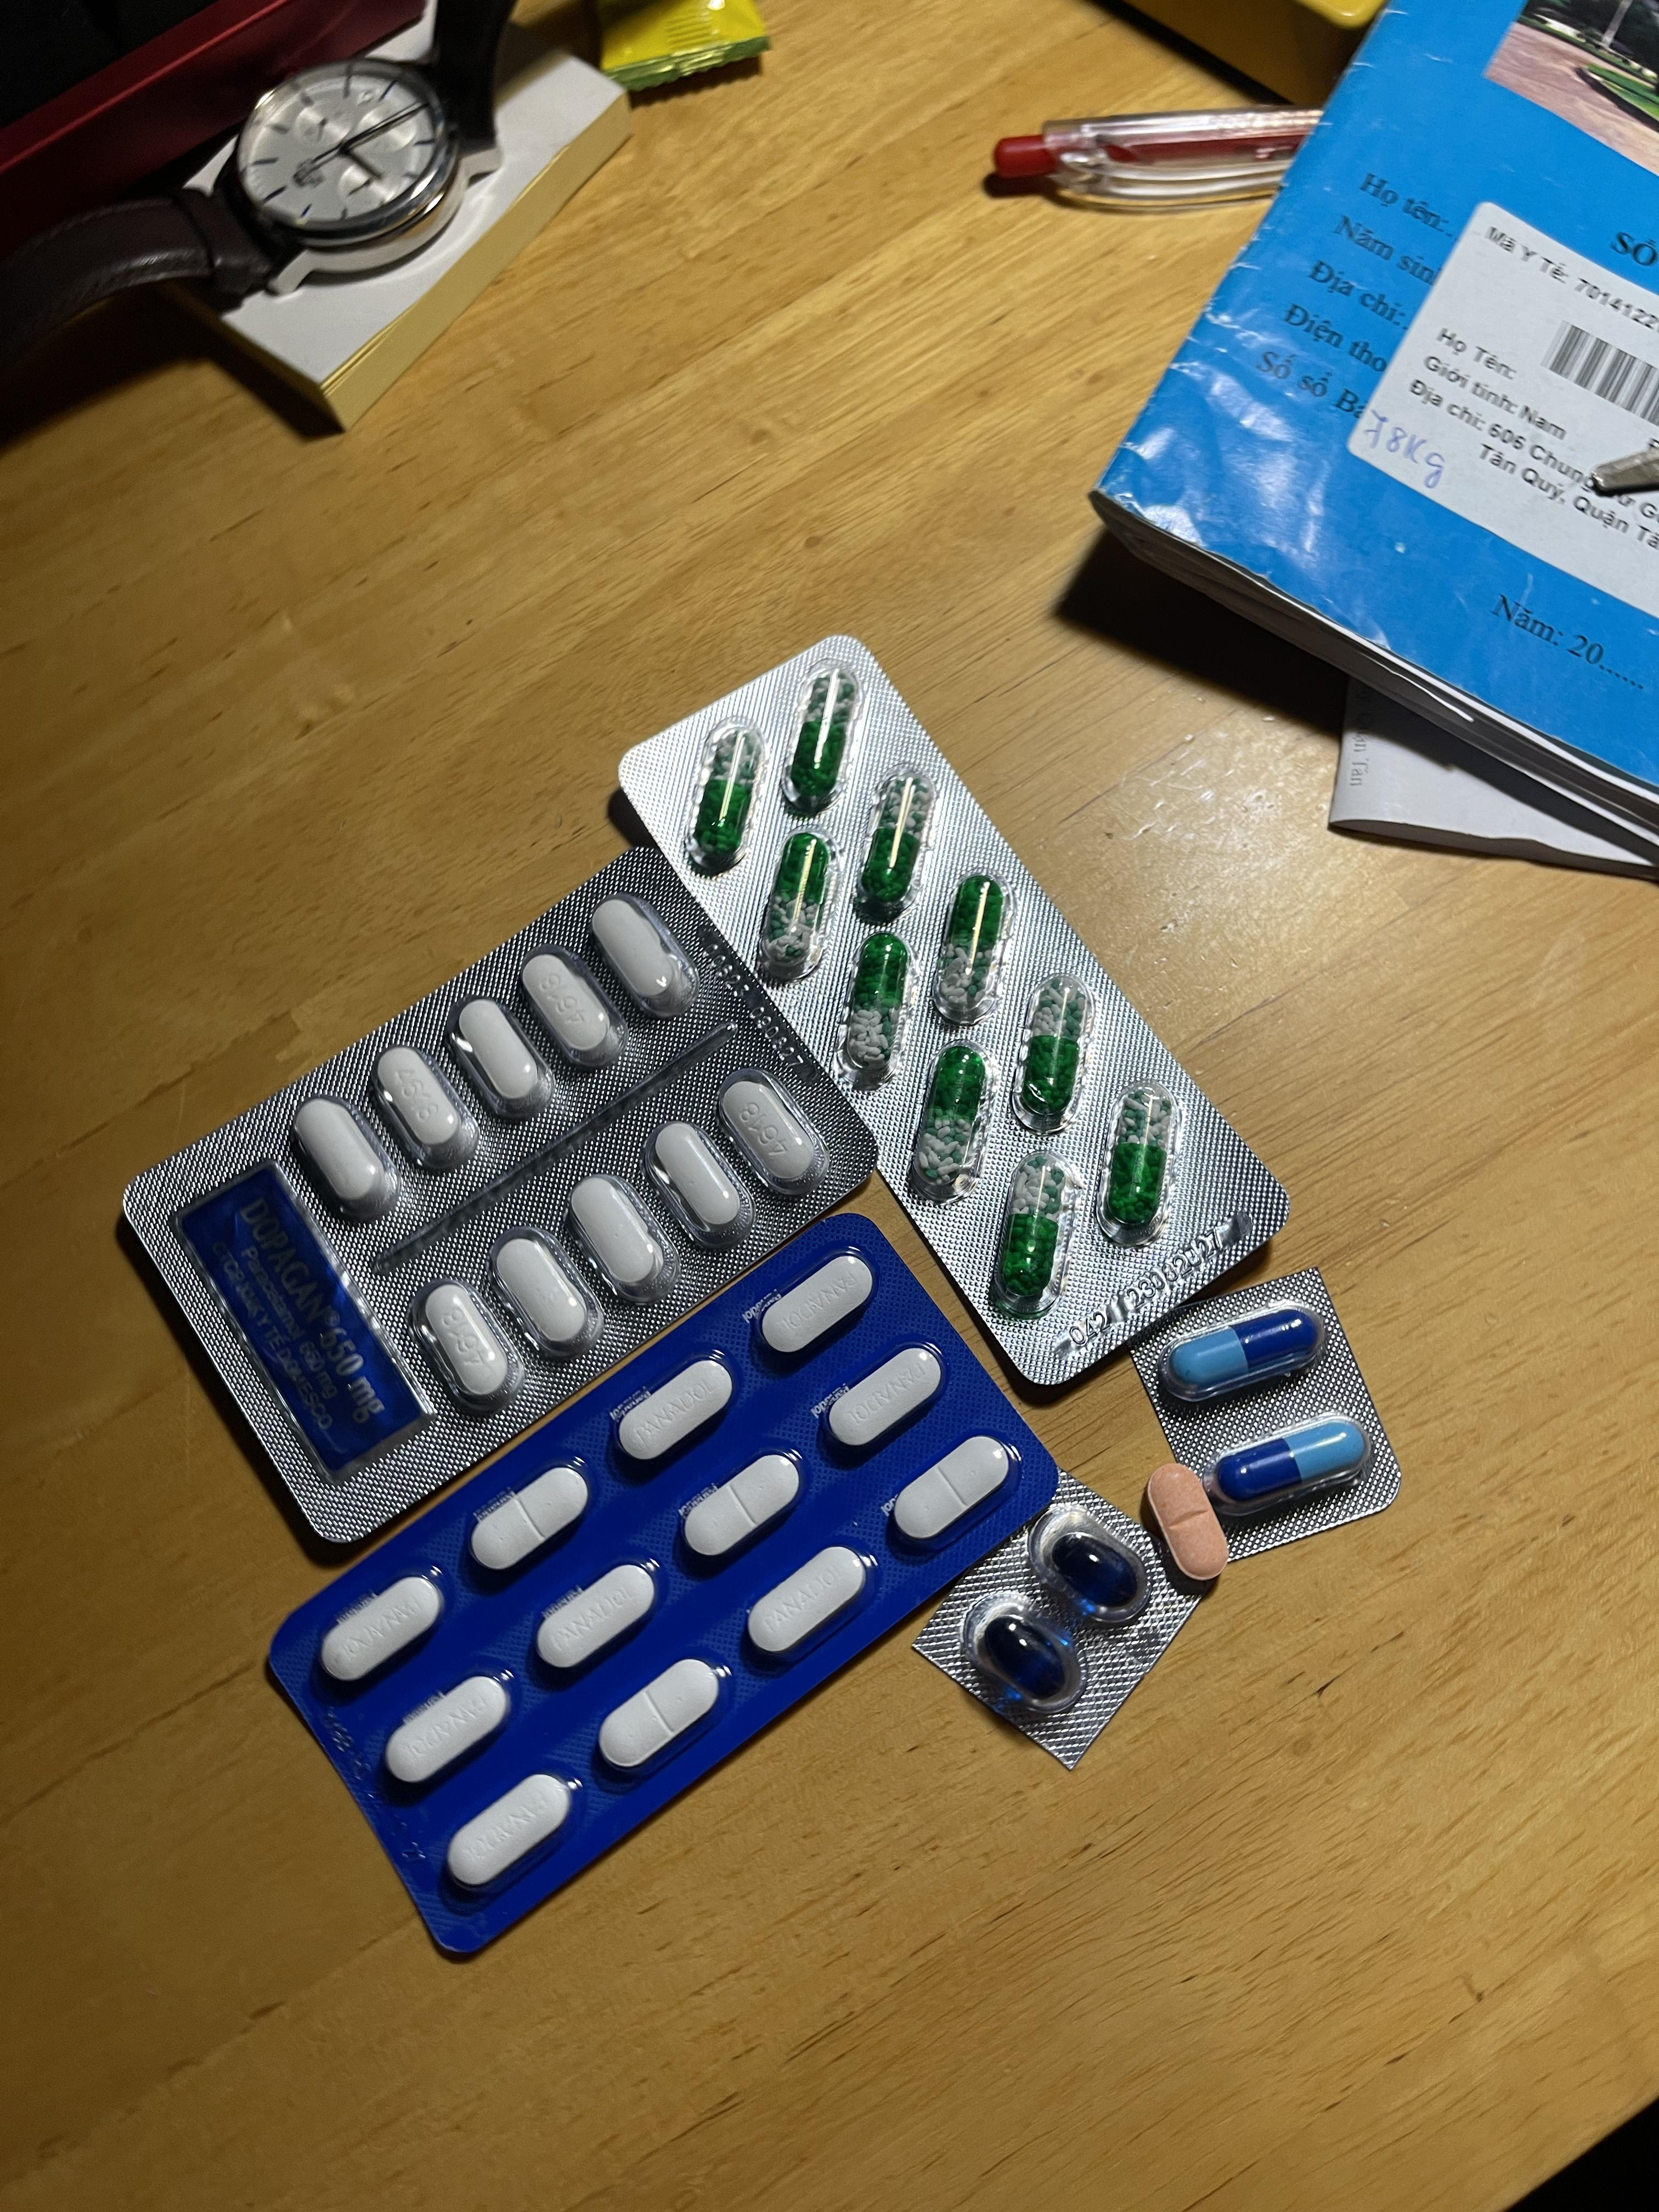Lincomyxin_500mg: (981, 1615, 1068, 1698), (1053, 1533, 1138, 1606)
Loratadine_10mg: (1147, 1467, 1227, 1581)
Paracetamol_350mg: (448, 1773, 570, 1890), (599, 1656, 723, 1771), (385, 1676, 509, 1789), (746, 1547, 866, 1660), (321, 1576, 443, 1684), (537, 1564, 657, 1672), (889, 1435, 1009, 1543), (681, 1453, 800, 1559), (474, 1463, 589, 1571), (617, 1359, 735, 1463), (760, 1256, 878, 1357), (838, 1357, 925, 1428)
Paracetamol_500mg: (565, 1170, 676, 1299), (519, 951, 634, 1075), (446, 991, 558, 1115), (293, 1096, 401, 1219), (375, 1045, 479, 1170), (652, 1120, 755, 1242), (415, 1275, 518, 1395), (491, 1237, 598, 1352), (720, 1080, 826, 1195), (591, 897, 692, 1015)
Paracetamol_650mg: (986, 1151, 1068, 1310), (1098, 1082, 1176, 1235), (850, 775, 934, 914), (782, 676, 866, 812), (908, 1045, 986, 1190), (758, 834, 836, 977), (1011, 977, 1089, 1118), (932, 880, 1009, 1019), (845, 939, 913, 1073), (692, 728, 760, 860)
pill: (1215, 1421, 1364, 1501), (1171, 1308, 1314, 1388)
